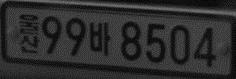0: (169, 24, 191, 65)
4: (193, 27, 215, 66)
5: (145, 23, 167, 63)
8: (120, 20, 143, 61)
9: (64, 16, 87, 56), (40, 15, 63, 54)
바: (88, 21, 111, 55)
울산_V: (17, 13, 40, 53)
